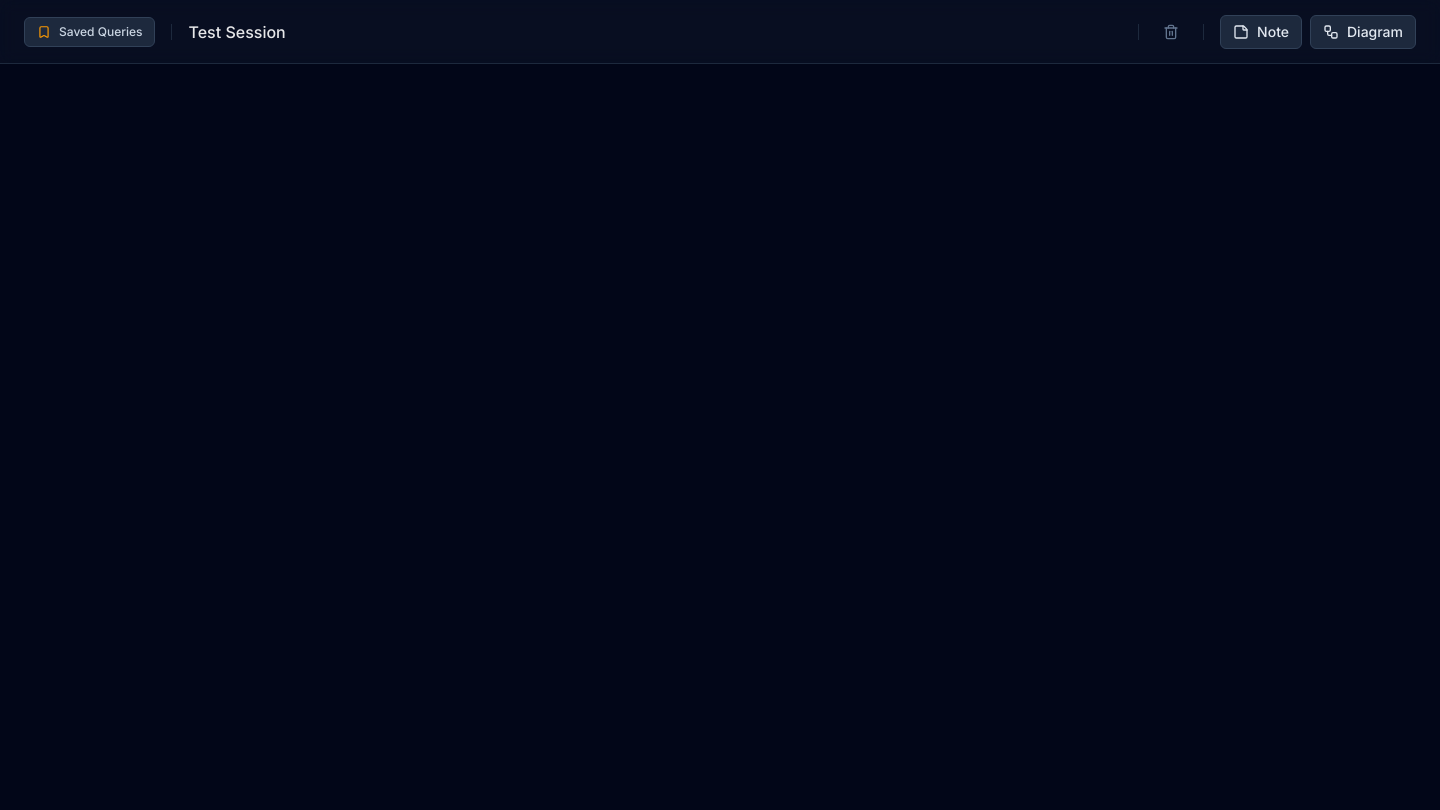
Test: ChatHeader › opens saved queries modal
The width and height of the screenshot is (1440, 810).
Click the button "Saved Queries": (90, 32) [24,16,156,46]
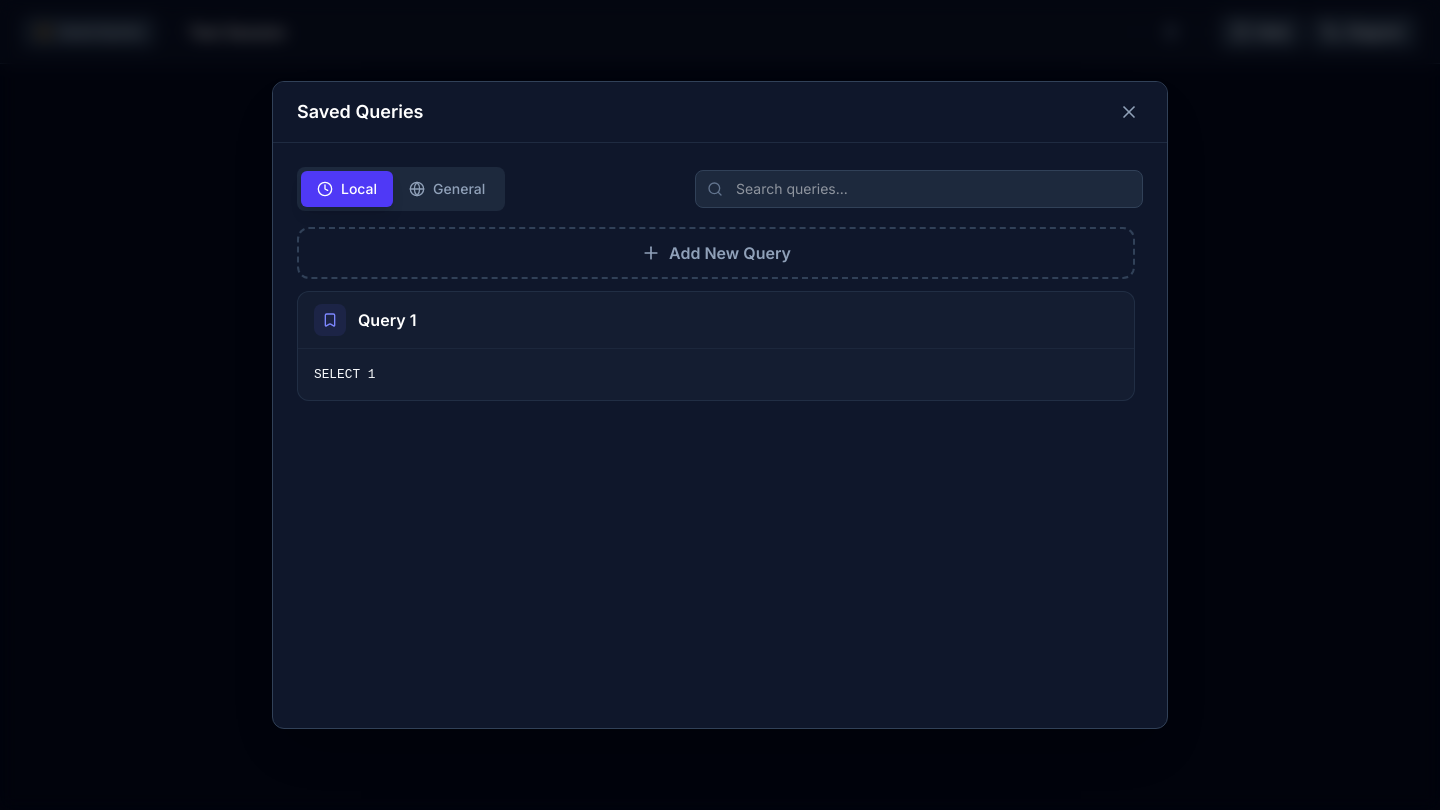
Now the heading "Saved Queries" is shown, box [297,98,424,126]
